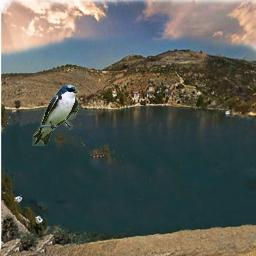Swallow: (32, 84, 79, 146)
